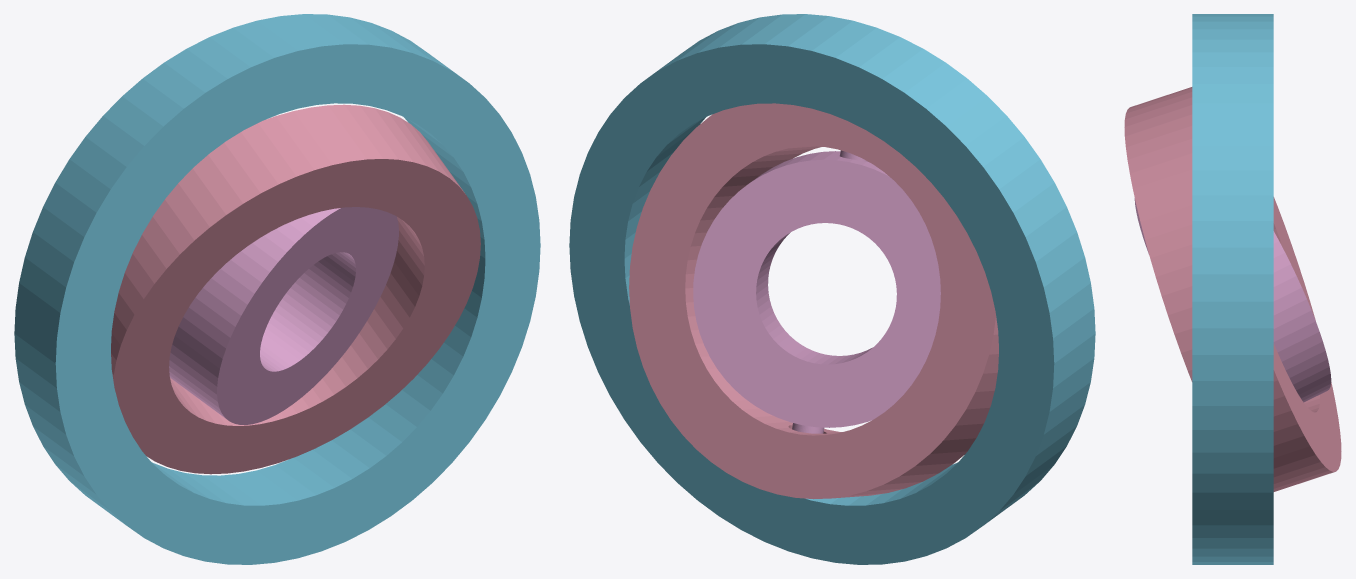
The model's file is gimbal_rings_demo.glb.
The picture shows the model from 3 angles, left to right: view 1: azimuth 30°, elevation 25°; view 2: azimuth 150°, elevation 25°; view 3: azimuth 270°, elevation 25°; orthographic projection.
Visible parts, largest first — view 1: gimbal_ring_0, gimbal_ring_1, gimbal_ring_2; view 2: gimbal_ring_0, gimbal_ring_1, gimbal_ring_2; view 3: gimbal_ring_0, gimbal_ring_1, gimbal_ring_2.
Part boxes in pixels (<box>): gimbal_ring_0: <box>14,14,540,564</box>; gimbal_ring_1: <box>111,104,480,474</box>; gimbal_ring_2: <box>169,207,398,424</box>; gimbal_ring_0: <box>569,14,1095,564</box>; gimbal_ring_1: <box>629,103,998,499</box>; gimbal_ring_2: <box>693,150,940,433</box>; gimbal_ring_0: <box>1192,14,1273,564</box>; gimbal_ring_1: <box>1124,87,1341,491</box>; gimbal_ring_2: <box>1134,198,1331,402</box>.
Size of the model in its own units: 44 by 44 by 17.31.
